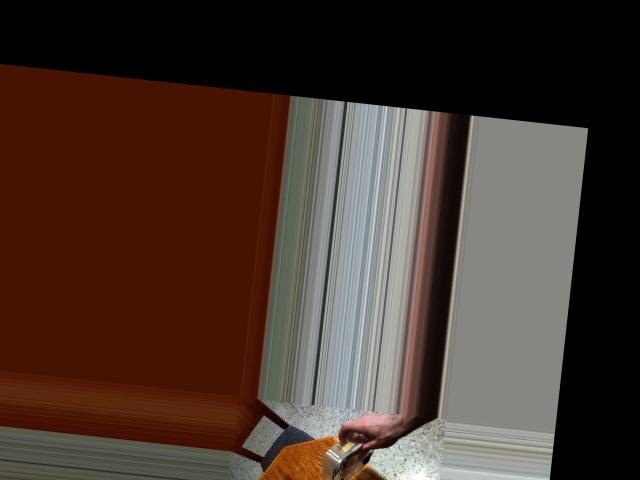cheese: (306, 425, 383, 480)
